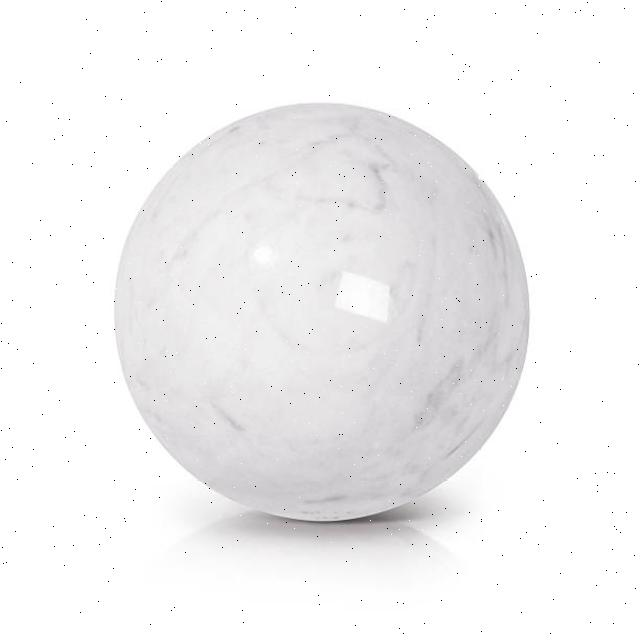Metamorphic: (116, 97, 539, 526)
